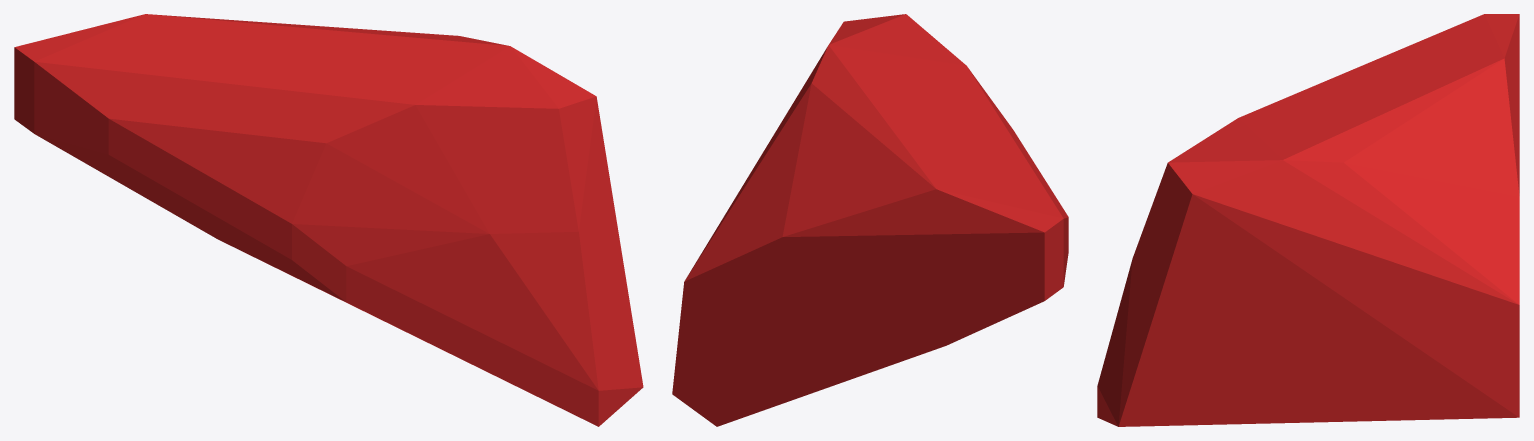
Rendered from mouth_cup063.obj.
3 views of the same model, side by side, from view 1: azimuth 30°, elevation 25°; view 2: azimuth 150°, elevation 25°; view 3: azimuth 270°, elevation 25° (orthographic). The views are drawn at different scales.
Parts seen in each view (by area): view 1: mouth_cup063; view 2: mouth_cup063; view 3: mouth_cup063.
Boxes of the visible parts, x1,y1,x2,y2 form: mouth_cup063: (14,14,643,426); mouth_cup063: (672,14,1068,426); mouth_cup063: (1097,14,1519,426).
Size of the model in its own units: 0.0697 by 0.0498 by 0.0719.
